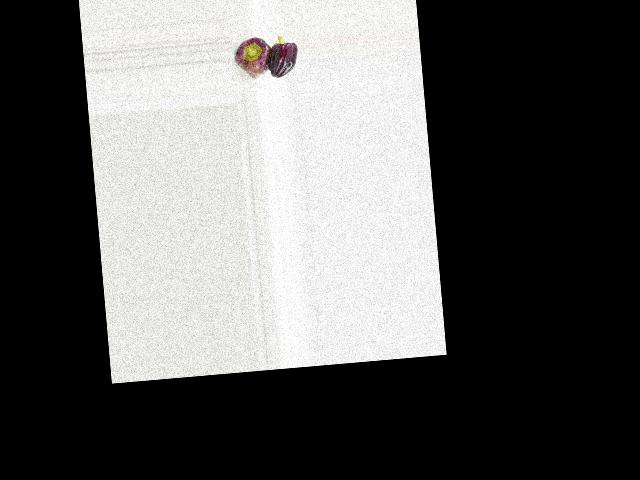bell_pepper: (232, 28, 274, 87)
